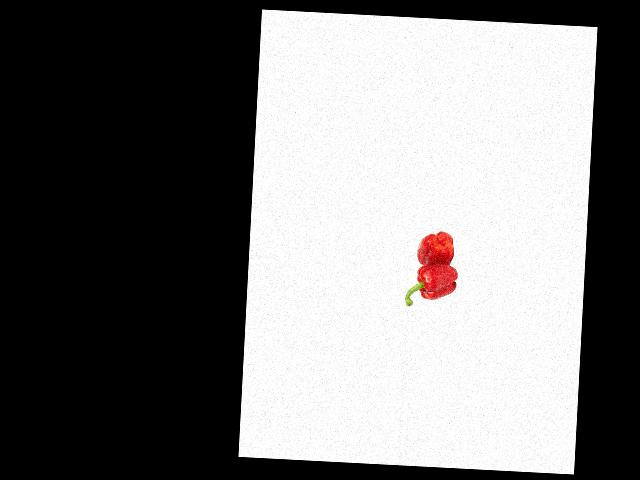bell_pepper: (414, 230, 457, 266)
